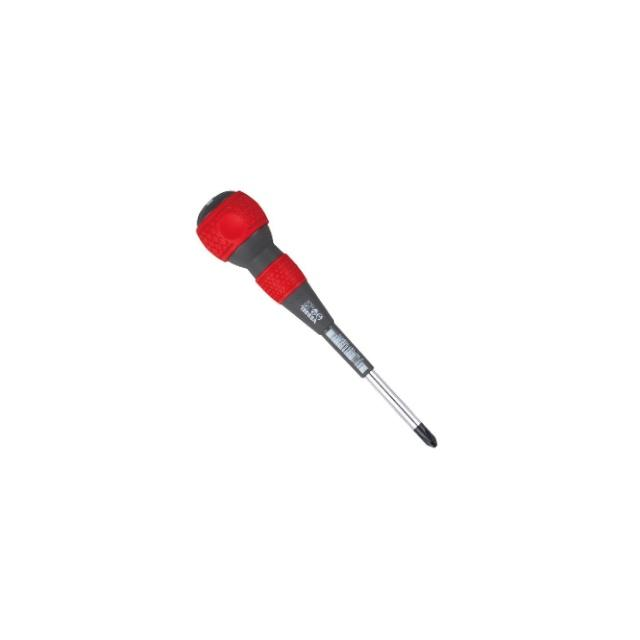screwdriver: (187, 185, 450, 451)
